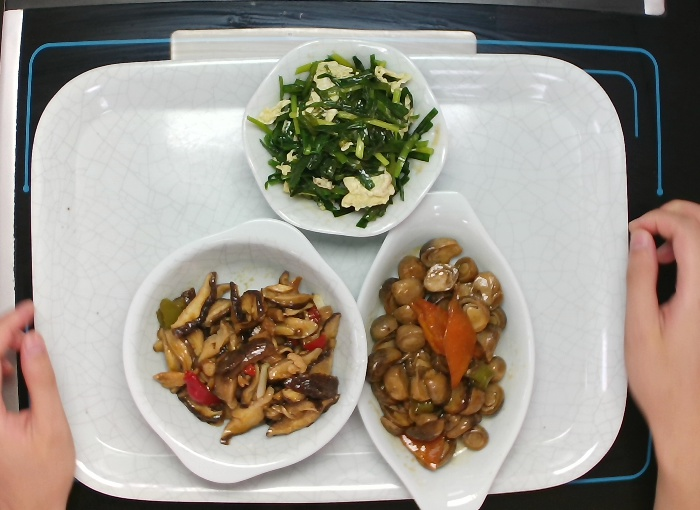JYsf-Shuang_Er_Wan: (117, 213, 371, 489)
JYsf-Yu_Pan: (344, 185, 538, 507)
WCQzf-Hua_Duo_Wan: (236, 31, 448, 241)
